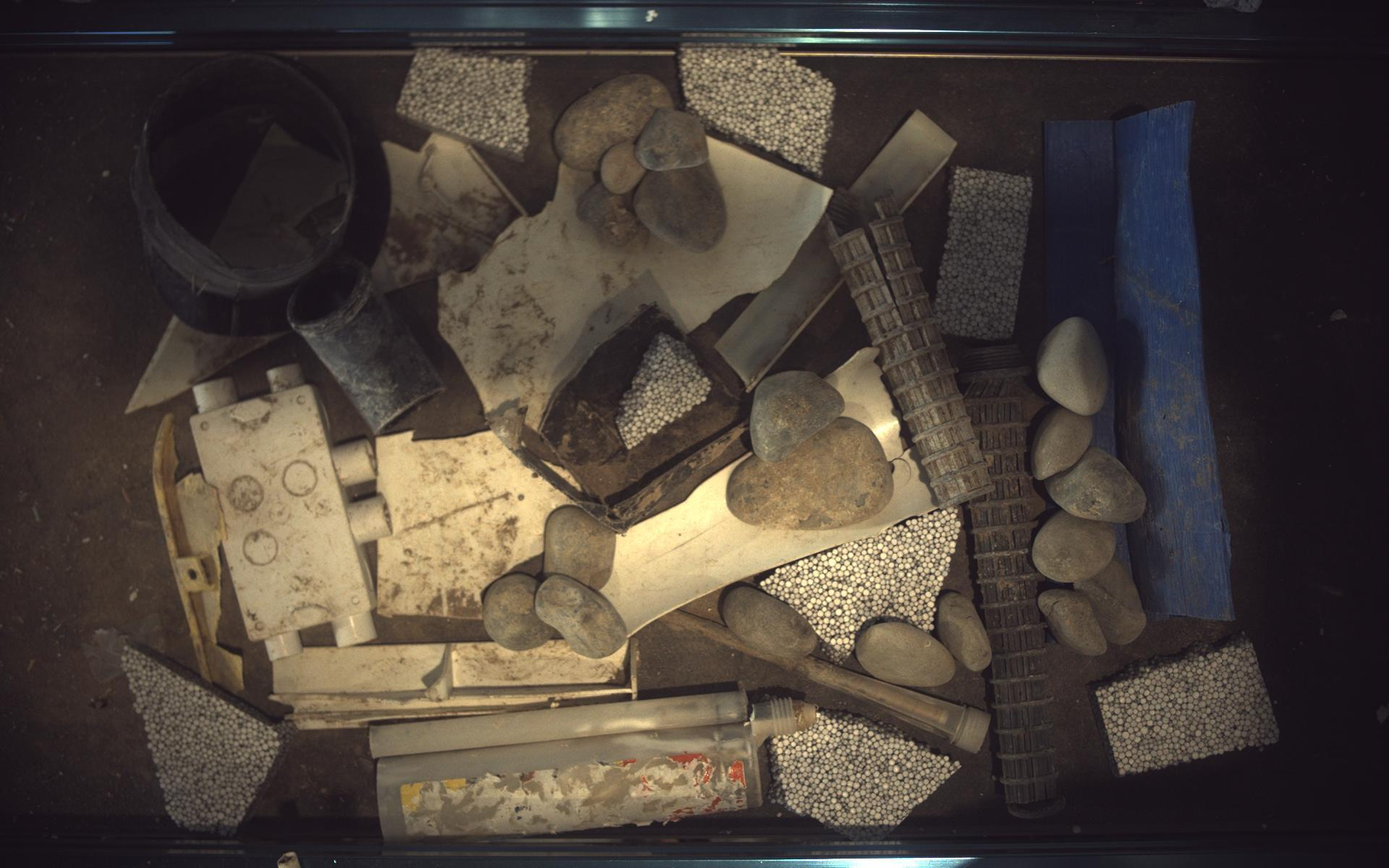foam: (119, 642, 291, 836), (761, 507, 964, 665), (1097, 637, 1282, 777), (770, 710, 963, 835), (681, 43, 836, 176), (935, 166, 1035, 339), (396, 47, 530, 158), (616, 333, 713, 449)
pipes: (287, 258, 443, 434)
plastic: (439, 137, 833, 428), (1047, 101, 1238, 621), (605, 350, 935, 633), (130, 54, 391, 336), (370, 691, 817, 842), (190, 365, 391, 659), (490, 303, 749, 531), (828, 190, 995, 508), (961, 345, 1066, 820), (660, 611, 993, 755), (375, 431, 569, 620), (271, 642, 639, 731), (152, 414, 243, 695), (372, 132, 524, 292), (717, 218, 842, 389), (208, 122, 346, 268), (125, 316, 274, 412), (850, 110, 959, 224)
stone: (727, 417, 895, 530), (554, 73, 674, 170), (751, 370, 846, 463), (634, 160, 729, 252), (1048, 446, 1149, 524), (537, 576, 629, 660), (722, 586, 820, 660), (1040, 317, 1112, 416), (857, 621, 958, 689), (1076, 558, 1150, 646), (1034, 510, 1118, 584), (545, 506, 617, 591), (483, 574, 556, 652), (577, 182, 650, 248), (636, 106, 710, 170), (1040, 590, 1110, 657), (1033, 406, 1095, 480), (939, 593, 994, 672), (601, 140, 647, 193)
